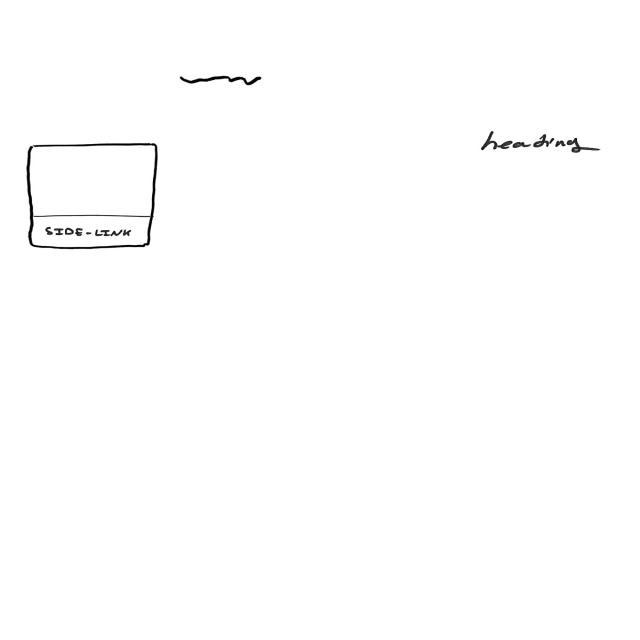container: (22, 142, 163, 254)
label: (469, 125, 608, 163), (43, 224, 135, 242)
text: (174, 71, 274, 91)
